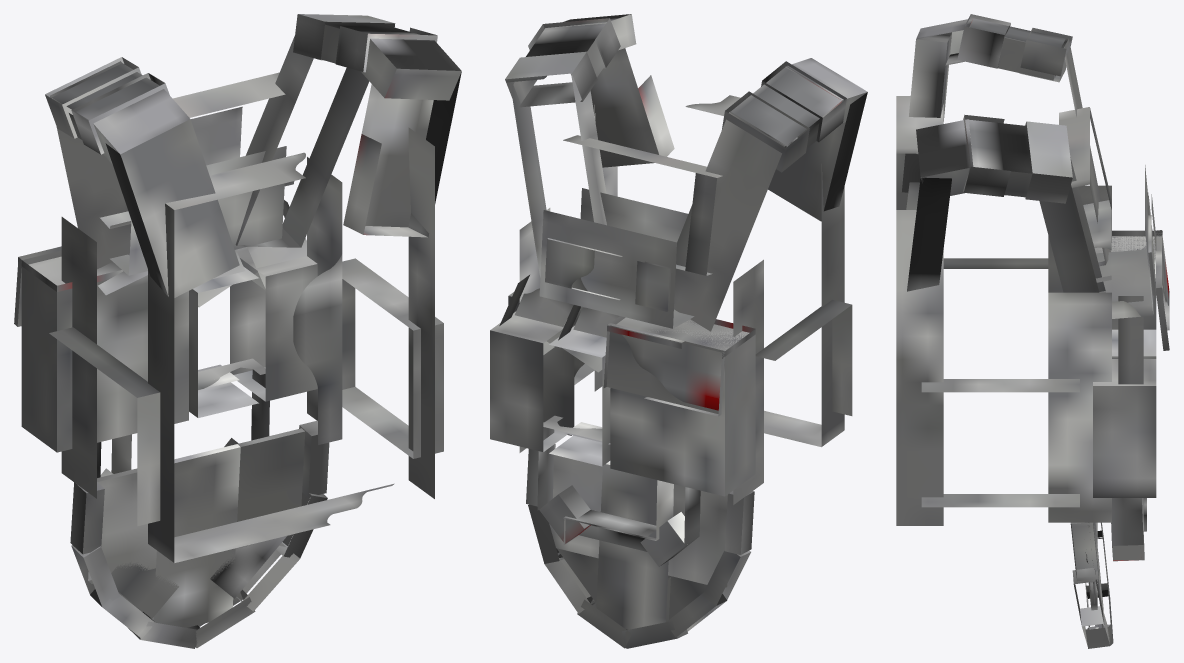
The model's file is medic.obj.
3 renders of one model, left to right at view 1: azimuth 30°, elevation 25°; view 2: azimuth 150°, elevation 25°; view 3: azimuth 270°, elevation 25°, orthographic. The views are drawn at different scales.
Visible parts, largest first — view 1: medic; view 2: medic; view 3: medic.
Boxes of the visible parts, box(x1,y1,x2,y2) form: medic: box(14, 14, 461, 648); medic: box(490, 14, 867, 648); medic: box(896, 14, 1169, 648).
Bounding box in the file's own units: 0.7121 × 1.25 × 0.5391.
